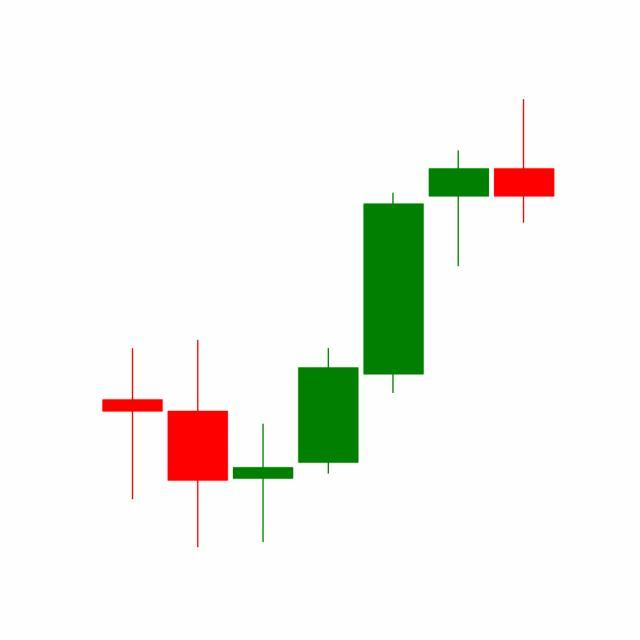Advance Block: (295, 147, 492, 478)
